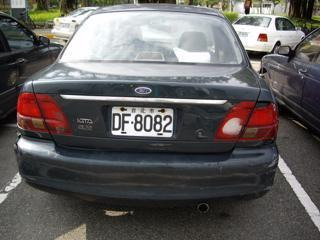plate: (110, 104, 176, 140)
